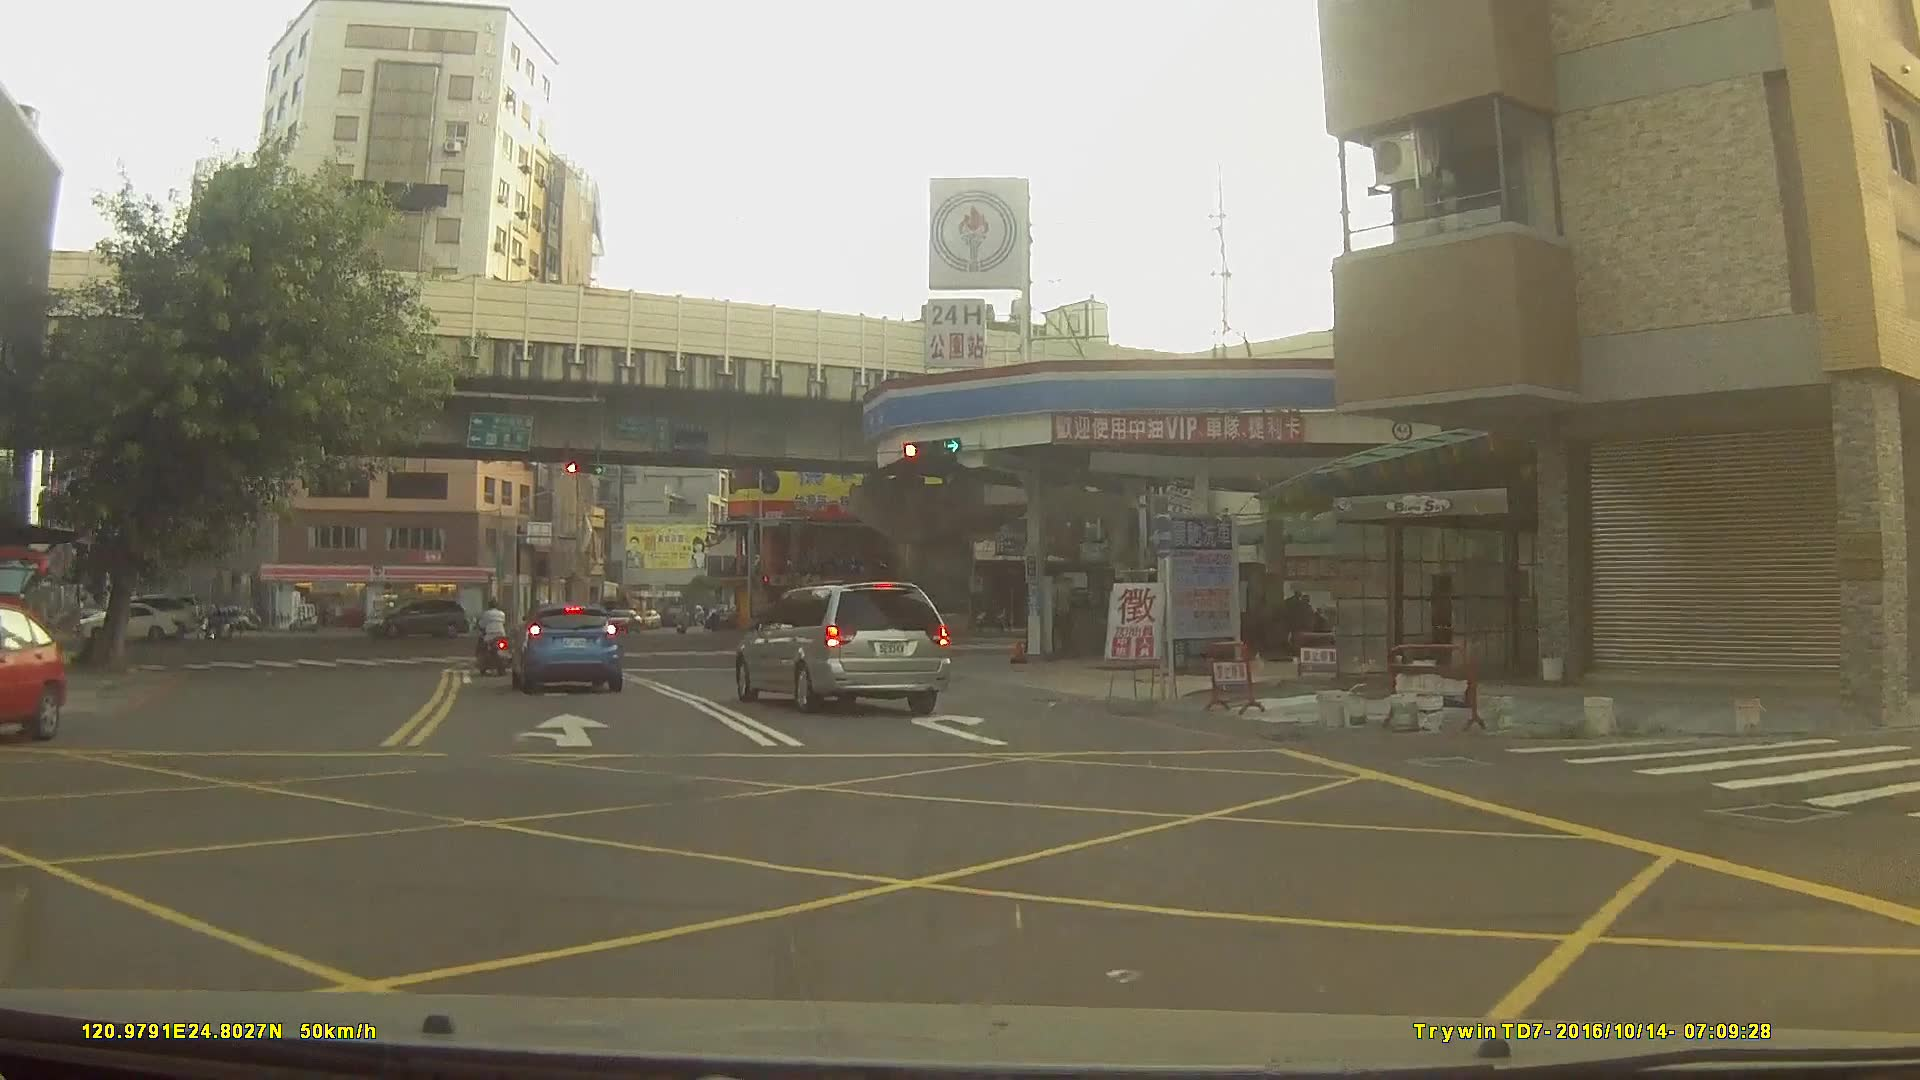rider: (474, 604, 512, 680), (200, 619, 227, 651)
vehicle: (735, 578, 952, 714), (513, 603, 624, 694), (0, 601, 64, 742), (72, 603, 178, 648), (361, 598, 468, 639), (529, 604, 609, 643)
